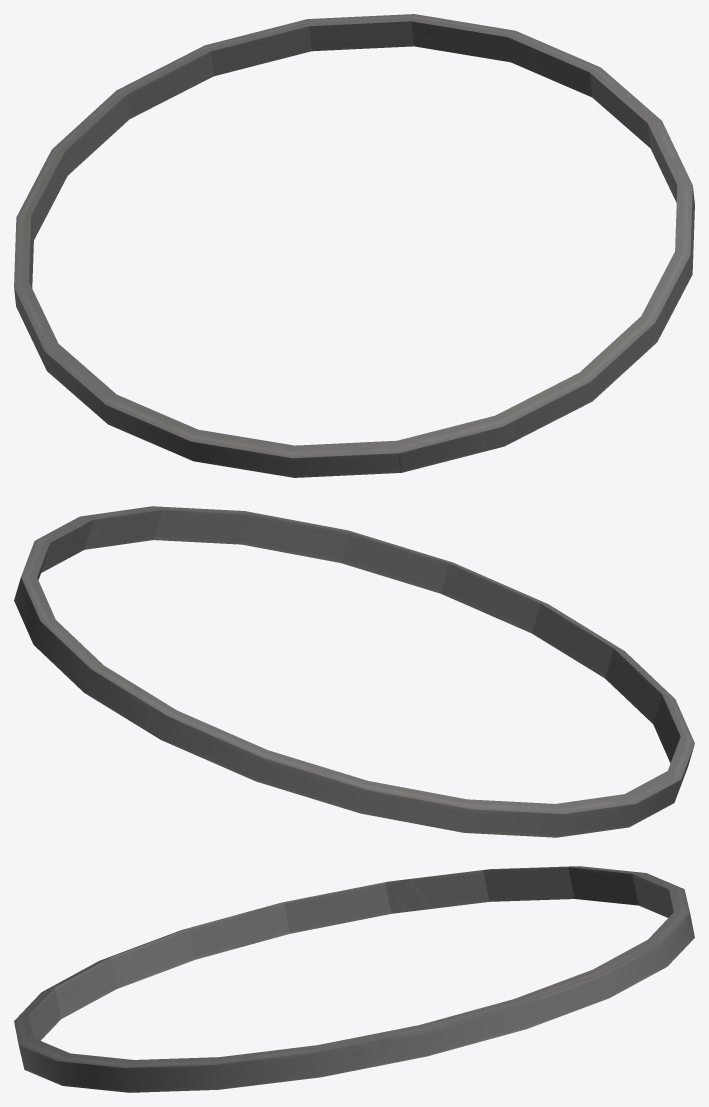
The model's file is celestialPrism_innerRing001.glb.
3 views of the same model, one above another, from view 1: azimuth 30°, elevation 25°; view 2: azimuth 150°, elevation 25°; view 3: azimuth 270°, elevation 25° (orthographic).
Visible parts, largest first — view 1: inerRing01; view 2: inerRing01; view 3: inerRing01.
Part boxes in pixels (x1=…): inerRing01: x1=14, y1=14, x2=694, y2=477; inerRing01: x1=14, y1=506, x2=694, y2=837; inerRing01: x1=14, y1=866, x2=694, y2=1092.
Size of the model in its own units: 0.305 by 0.0955 by 0.3047.
Materials: 1 (1 with a texture image).
